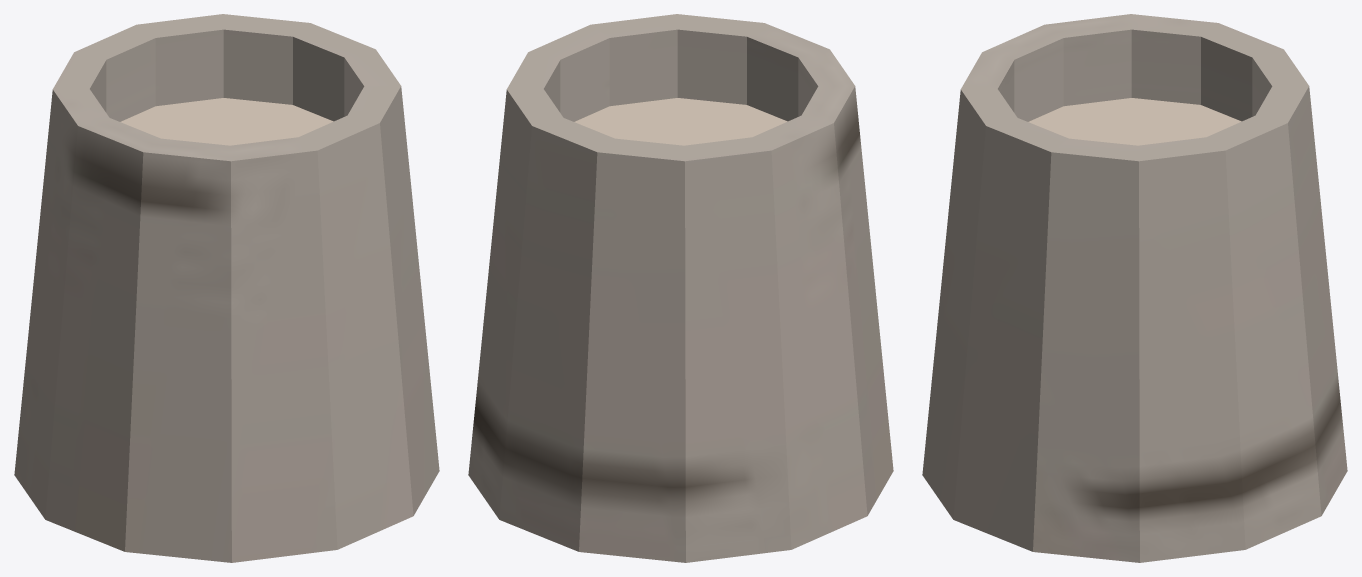
File: Trunks15.gltf
The picture shows the model from 3 angles, left to right: view 1: azimuth 30°, elevation 25°; view 2: azimuth 150°, elevation 25°; view 3: azimuth 270°, elevation 25°; orthographic projection.
Visible parts, largest first — view 1: Trunk2 - copy.001; view 2: Trunk2 - copy.001; view 3: Trunk2 - copy.001.
Part boxes in pixels (<box>): Trunk2 - copy.001: <box>14,14,439,562</box>; Trunk2 - copy.001: <box>468,14,893,562</box>; Trunk2 - copy.001: <box>922,14,1347,562</box>.
Bounding box in the file's own units: 0.5453 × 0.5455 × 0.5453.
Materials: 1 (1 with a texture image).
